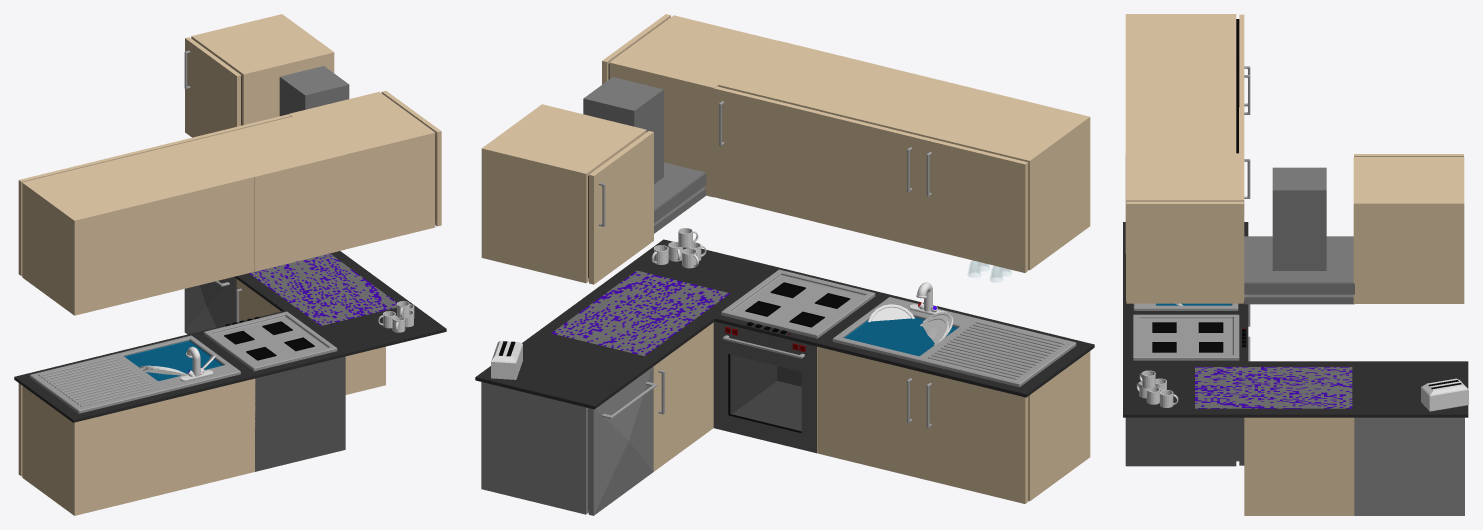
File: Full_Kitchen.fbx
The picture shows the model from 3 angles, left to right: view 1: azimuth 30°, elevation 25°; view 2: azimuth 150°, elevation 25°; view 3: azimuth 270°, elevation 25°; orthographic projection. The views are drawn at different scales.
Visible parts, largest first — view 1: pCube89, pCube92, pCube91, pCube73, pCube86, pCube84, pCube71, pCube75, pCube108, pPlane2, pCube82, pCube81 (+4 smaller); view 2: pCube84, pCube89, pCube79, pCube73, pCube91, pCube86, pCube82, pCube92, pCube71, pCube75, pPlane2, pCube108 (+5 smaller); view 3: pCube92, pCube84, pCube83, pCube82, pCube79, pCube77, pPlane2, pCube75, pCube91, pCube89, pCube86, pCube93 (+3 smaller).
Part boxes in pixels (box(x1,y1,x2,y2)): pCube89: box(18, 158, 165, 315); pCube92: box(289, 90, 441, 249); pCube91: box(199, 114, 345, 271); pCube73: box(18, 383, 164, 515); pCube86: box(109, 136, 254, 293); pCube84: box(185, 14, 334, 137); pCube71: box(164, 378, 255, 493); pCube75: box(255, 356, 345, 471); pCube108: box(30, 335, 240, 413); pPlane2: box(249, 253, 396, 325); pCube82: box(234, 251, 446, 353); pCube81: box(14, 311, 415, 422); pCube84: box(481, 104, 653, 284); pCube89: box(921, 91, 1090, 272); pCube79: box(481, 366, 653, 515); pCube73: box(921, 351, 1090, 503); pCube91: box(713, 40, 882, 222); pCube86: box(817, 66, 985, 247); pCube82: box(475, 239, 782, 409); pCube92: box(602, 14, 777, 197); pCube71: box(817, 346, 921, 478); pCube75: box(713, 321, 817, 453); pPlane2: box(551, 270, 729, 355); pCube108: box(832, 297, 1076, 387); pCube92: box(1126, 153, 1244, 303); pCube84: box(1353, 154, 1464, 303); pCube83: box(1244, 167, 1354, 304); pCube82: box(1123, 361, 1468, 417); pCube79: box(1354, 417, 1464, 515); pCube77: box(1244, 417, 1354, 515); pPlane2: box(1195, 367, 1352, 408); pCube75: box(1125, 417, 1244, 466); pCube91: box(1125, 107, 1244, 253); pCube89: box(1125, 14, 1244, 65); pCube86: box(1125, 60, 1244, 111); pCube93: box(1133, 314, 1239, 360).
Bounding box in the file's own units: 6.1 × 4.63 × 4.63.
